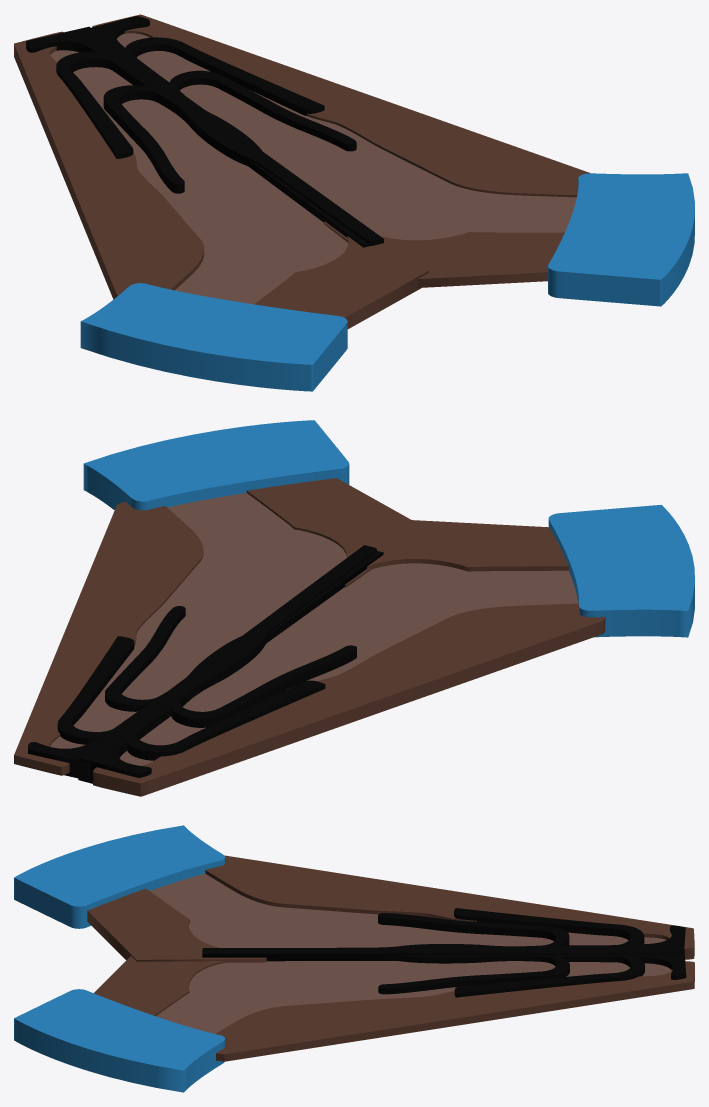
File: emoji_u1f64f_1f3ff.glb
The picture shows the model from 3 angles, top to bottom: view 1: azimuth 30°, elevation 25°; view 2: azimuth 150°, elevation 25°; view 3: azimuth 270°, elevation 25°; orthographic projection. The views are drawn at different scales.
Visible parts, largest first — view 1: emoji_u1f64f_1f3ff; view 2: emoji_u1f64f_1f3ff; view 3: emoji_u1f64f_1f3ff.
Part boxes in pixels (x1,y1,x2,y2): emoji_u1f64f_1f3ff: (14,14,694,391); emoji_u1f64f_1f3ff: (14,420,694,796); emoji_u1f64f_1f3ff: (14,825,694,1092).
Size of the model in its own units: 0.0286 by 0.0012 by 0.0335.
